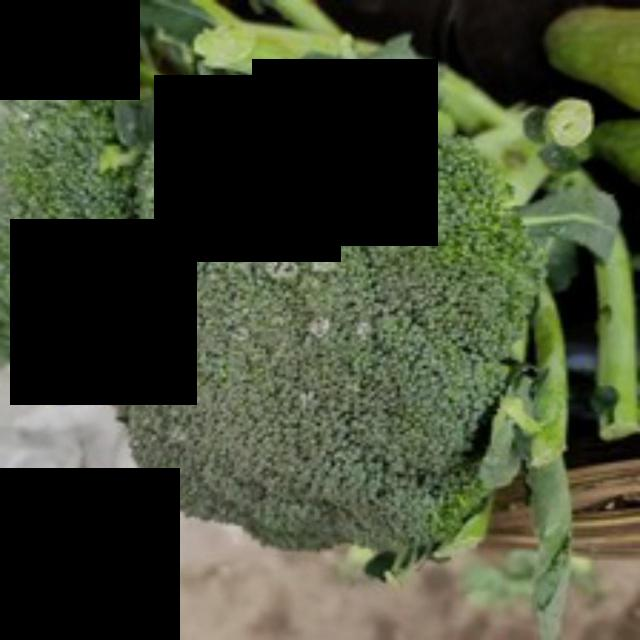broccoli: (78, 85, 560, 596)
